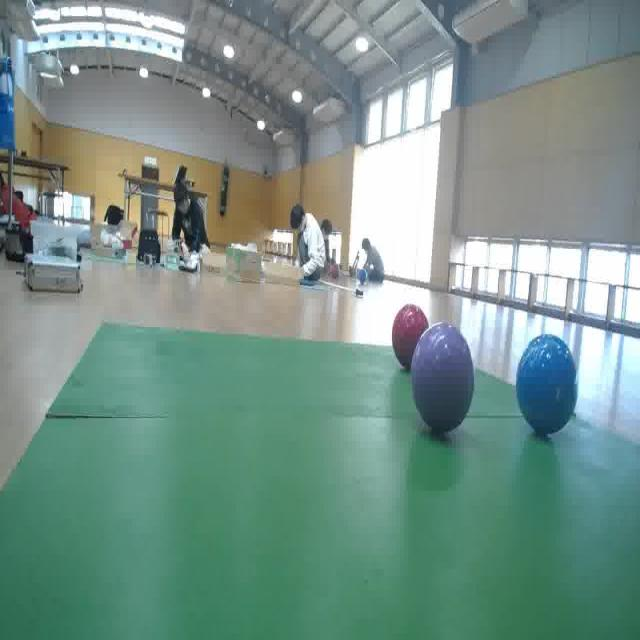blue_ball: (509, 323, 588, 446)
purple_ball: (408, 318, 478, 440)
red_ball: (390, 296, 430, 366)
